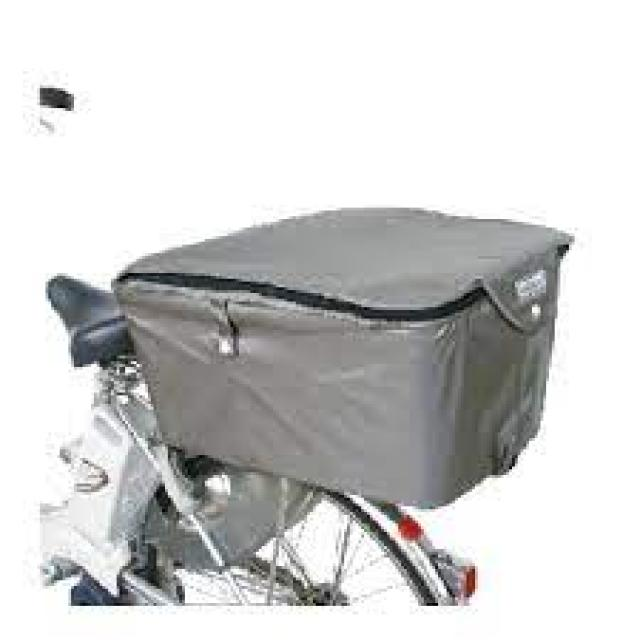basket: (109, 205, 577, 508)
